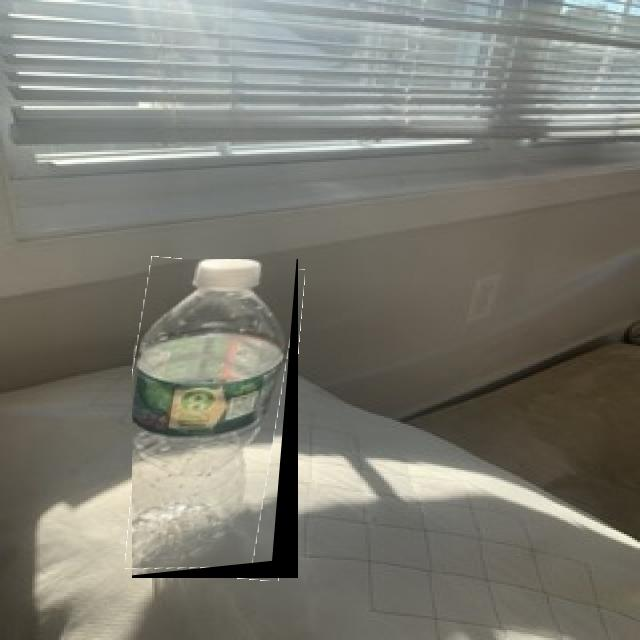water_bottle: (132, 259, 298, 578)
